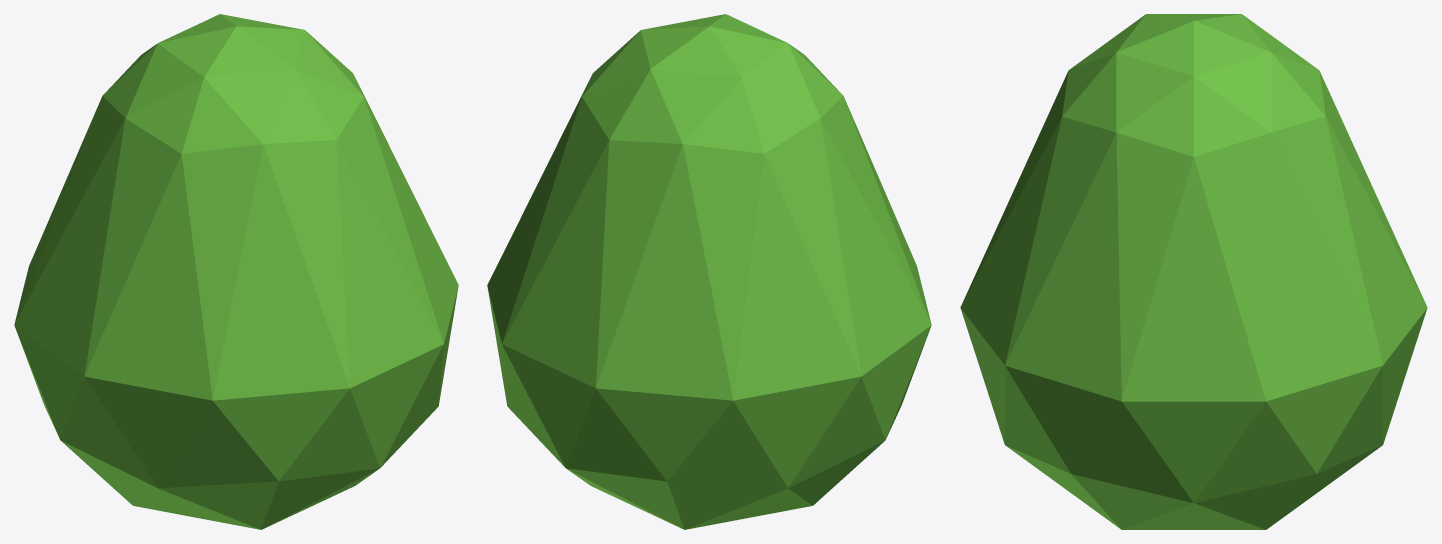
Rendered from bush-type-B.fbx.
The picture shows the model from 3 angles, left to right: view 1: azimuth 30°, elevation 25°; view 2: azimuth 150°, elevation 25°; view 3: azimuth 270°, elevation 25°; orthographic projection. The views are drawn at different scales.
Parts seen in each view (by area): view 1: 2.1 bush-type-B; view 2: 2.1 bush-type-B; view 3: 2.1 bush-type-B.
Boxes of the visible parts, x1,y1,x2,y2 form: 2.1 bush-type-B: (14, 14, 458, 529); 2.1 bush-type-B: (487, 14, 931, 529); 2.1 bush-type-B: (960, 14, 1427, 529).
Bounding box in the file's own units: 1.13 × 1.4 × 1.19.
